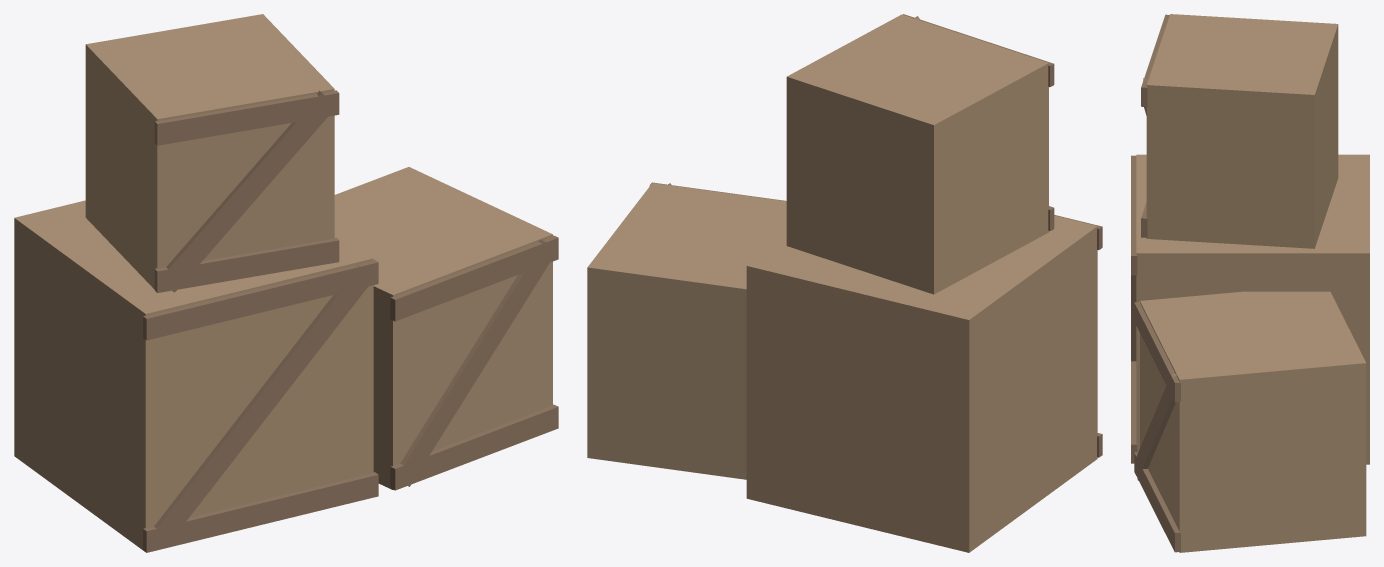
File: prop_crates.glb
3 views of the same model, side by side, from view 1: azimuth 30°, elevation 25°; view 2: azimuth 150°, elevation 25°; view 3: azimuth 270°, elevation 25° (orthographic). The views are drawn at different scales.
Visible parts, largest first — view 1: prop_crates; view 2: prop_crates; view 3: prop_crates.
Part boxes in pixels (bbox=[...]): prop_crates: bbox=[14, 14, 558, 552]; prop_crates: bbox=[587, 14, 1102, 552]; prop_crates: bbox=[1131, 14, 1369, 552].
Bounding box in the file's own units: 2.11 × 1.9 × 1.12.
